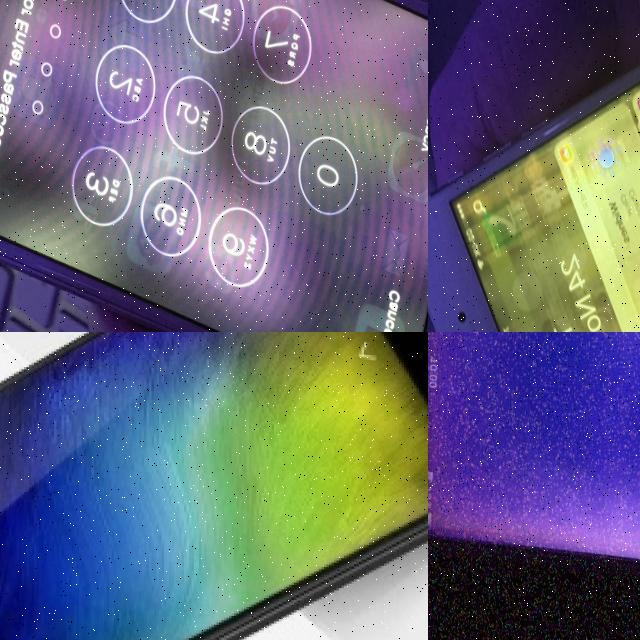dead pixel: (435, 0, 640, 332)
